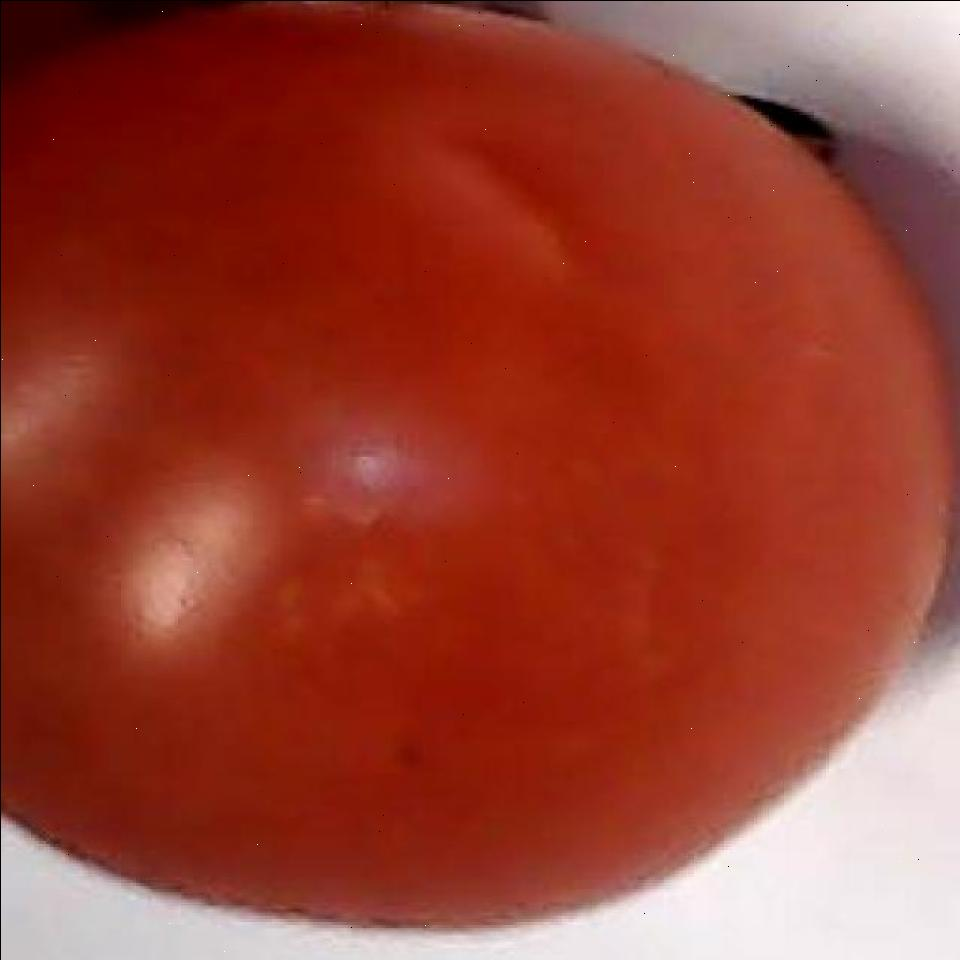Healthy: (4, 40, 960, 958)
